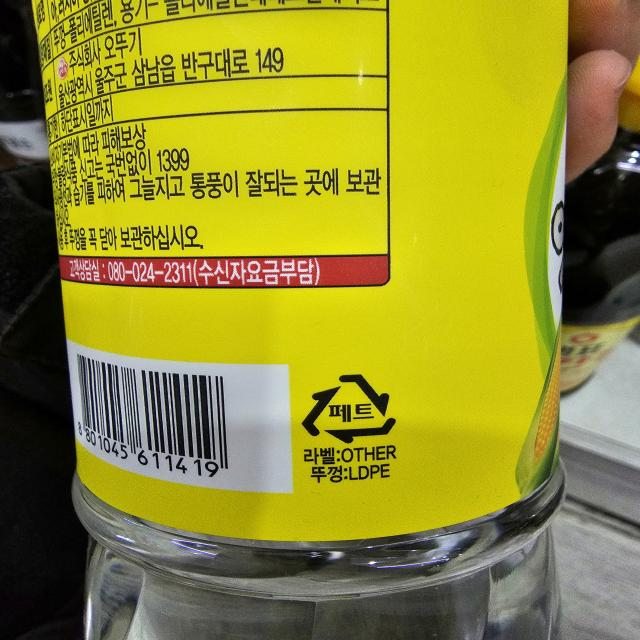PET: (297, 364, 403, 448)
